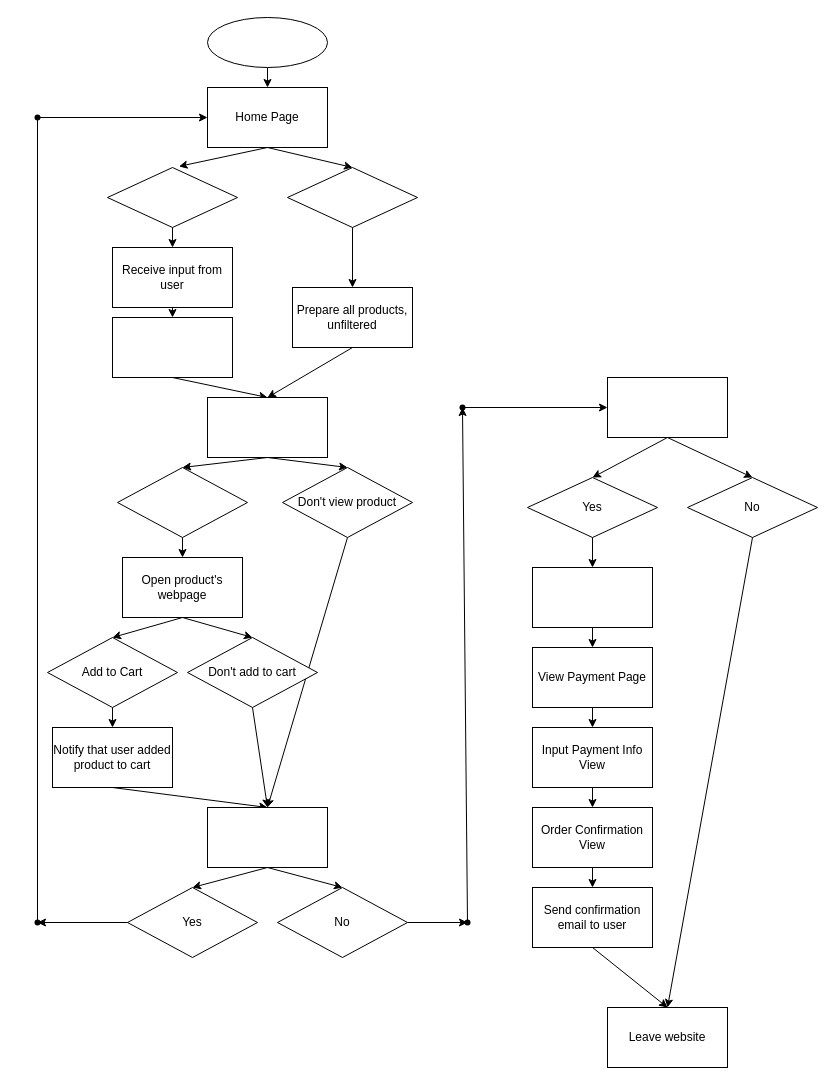
The diagram is 835 pixels wide and 1085 high, and some of its shapes have lost their labels. Each missing label, with the centre of its shape:
"Checkout?" belongs at (x=667, y=407).
"Display list of products" belongs at (x=267, y=427).
"Explore Products" belongs at (x=352, y=197).
"Filter listed products from search" belongs at (x=172, y=347).
"Prompt user to ask to continue shopping" belongs at (x=267, y=837).
"Search" belongs at (x=172, y=197).
"Start" belongs at (x=267, y=42).
"View Cart Page" belongs at (x=592, y=597).
"View specific product" belongs at (x=182, y=502).
